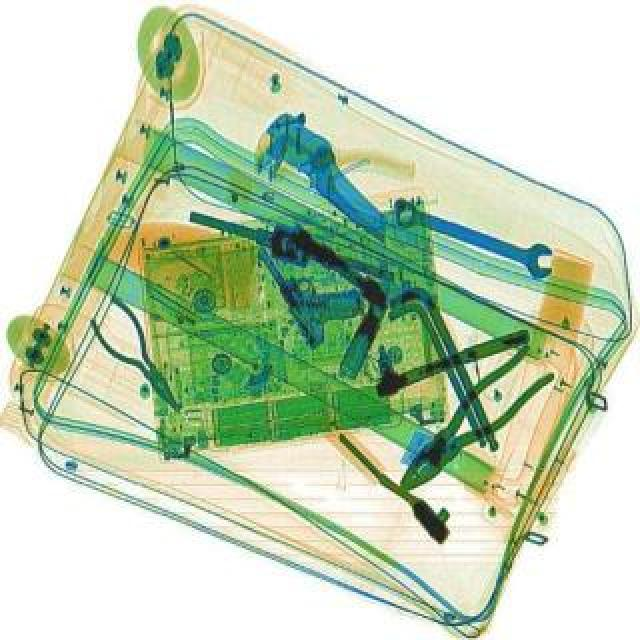gun: (246, 216, 374, 350)
scissors: (388, 190, 560, 280)
wrench: (380, 340, 558, 504), (82, 292, 198, 422)
